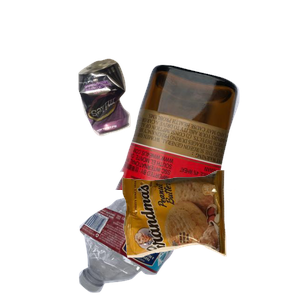glass: (113, 62, 300, 242)
metal: (75, 56, 198, 185)
plastic: (76, 131, 280, 300)
trash: (120, 168, 300, 300)
